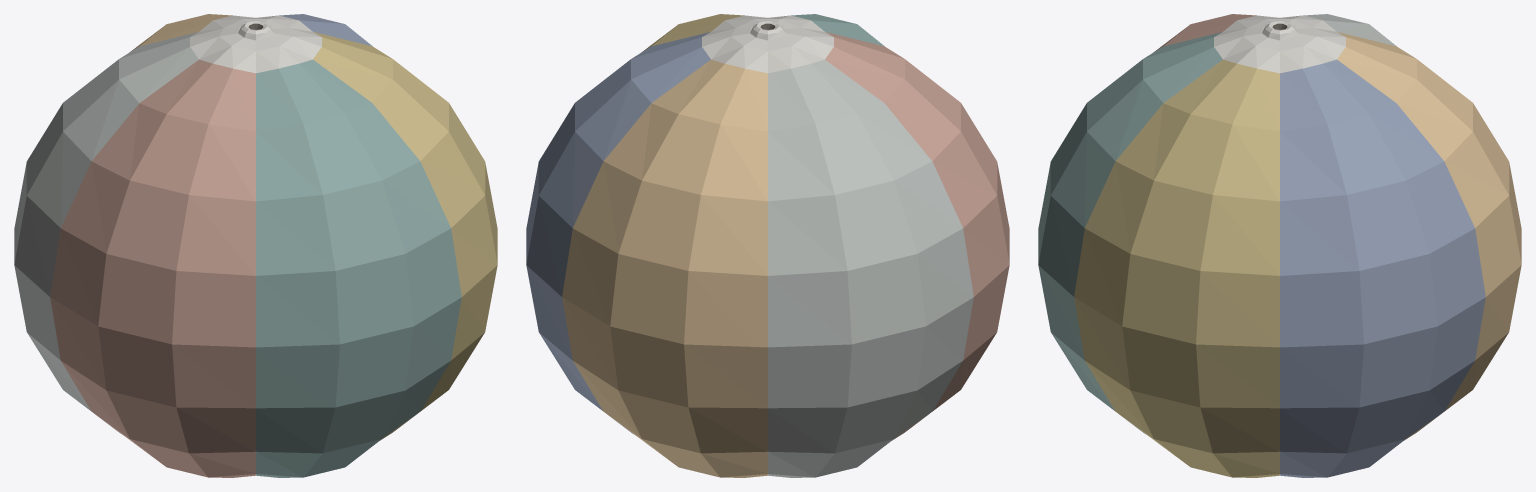
File: beach-ball-4b2a9b.glb
3 renders of one model, left to right at view 1: azimuth 30°, elevation 25°; view 2: azimuth 150°, elevation 25°; view 3: azimuth 270°, elevation 25°, orthographic.
Visible parts, largest first — view 1: beach-ball-4b2a9b; view 2: beach-ball-4b2a9b; view 3: beach-ball-4b2a9b.
Part boxes in pixels (x1,y1,x2,y2): beach-ball-4b2a9b: (14,14,497,477); beach-ball-4b2a9b: (526,14,1009,477); beach-ball-4b2a9b: (1038,14,1521,477).
Size of the model in its own units: 0.3442 by 0.3439 by 0.35.
